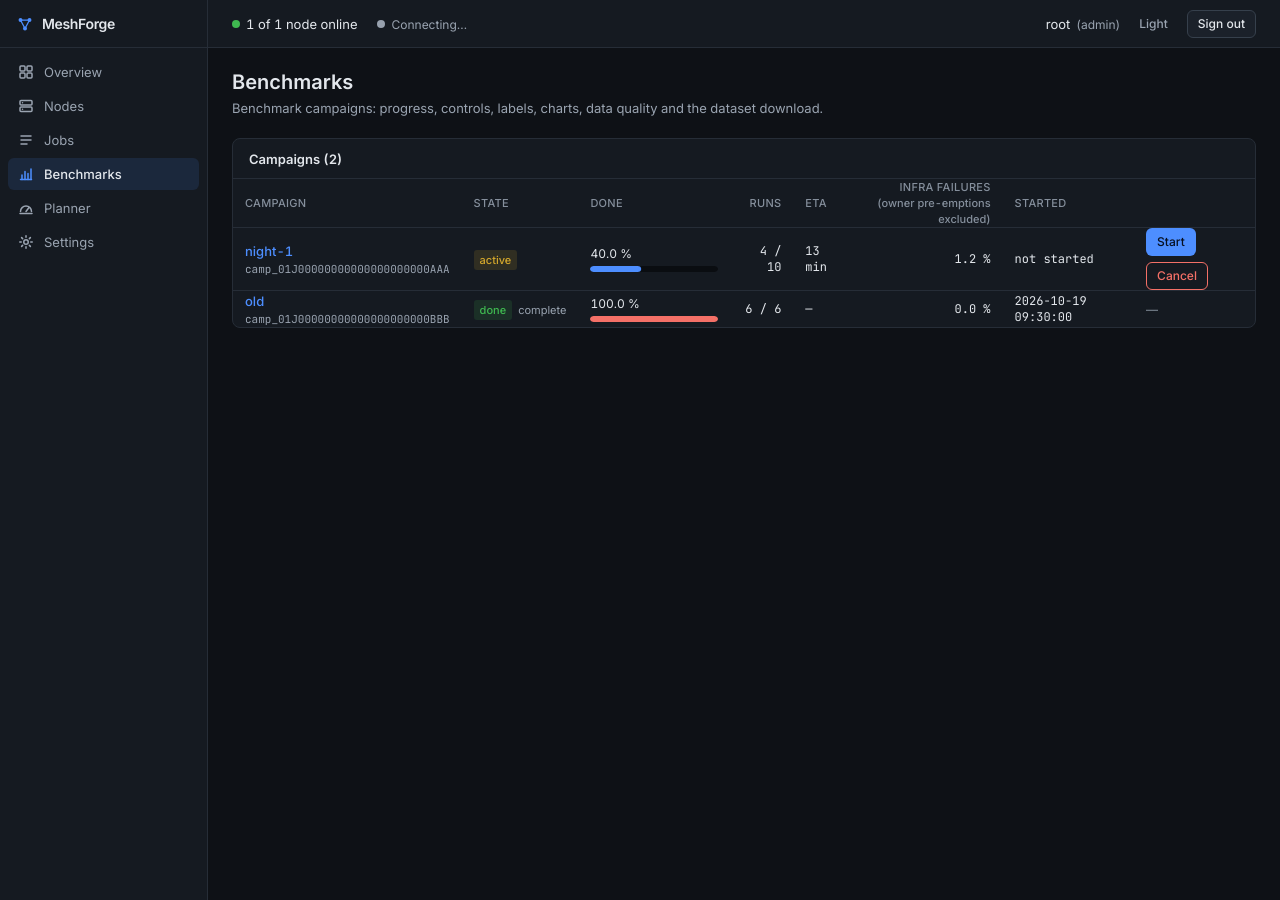
it: campaign controls › start sends POST .../start with the CSRF header and toasts the result
Click the button with aria-label "Start campaign night-1". click: (1171, 242)
box: [1146,228,1196,256]
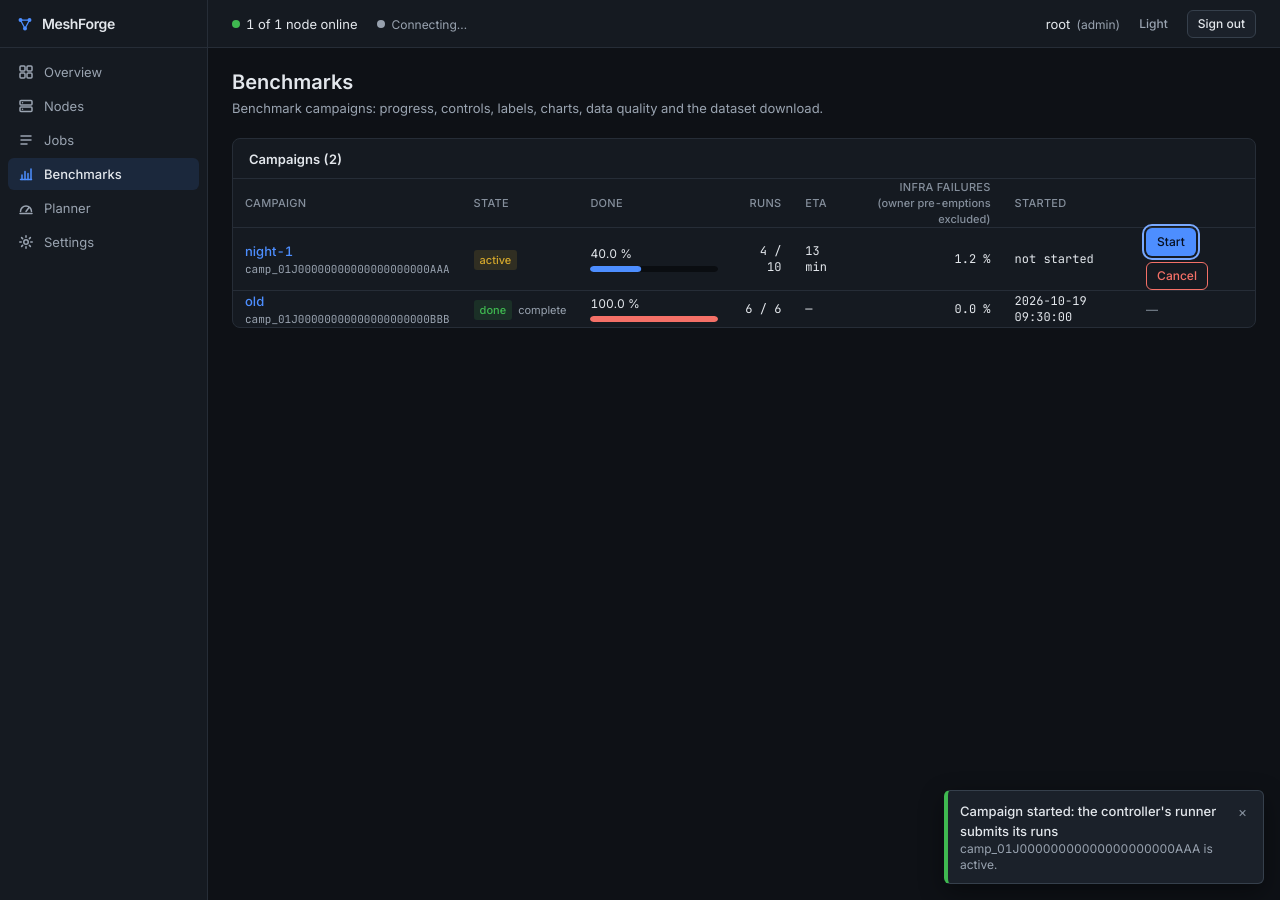
Now the text "Campaign started: the controller's runner submits its runs" is shown, box [960,801,1222,841]
